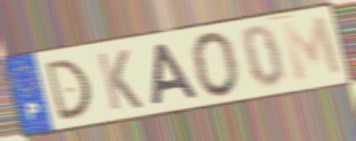0: (240, 23, 287, 91)
A: (150, 41, 202, 108)
D: (42, 57, 95, 124)
K: (94, 48, 146, 113)
M: (278, 13, 346, 86)
O: (190, 29, 242, 100)
